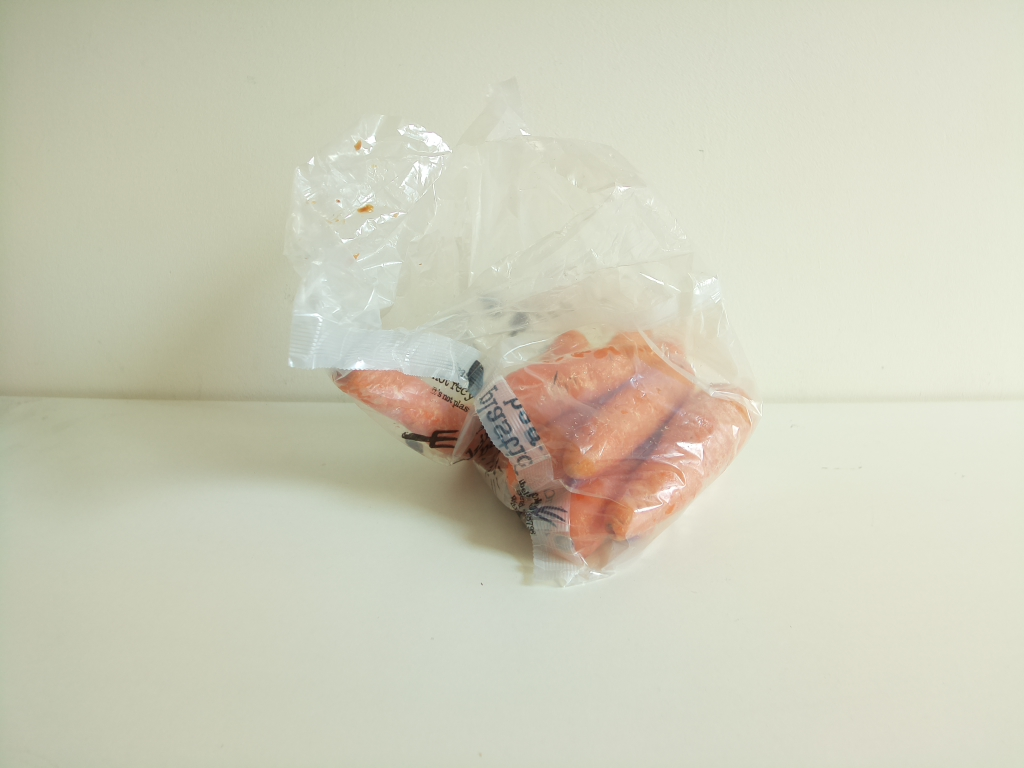carrot: (324, 326, 759, 563)
